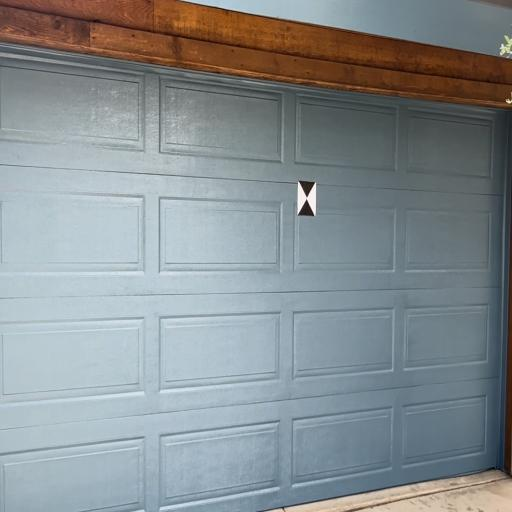target: (298, 181, 318, 217)
